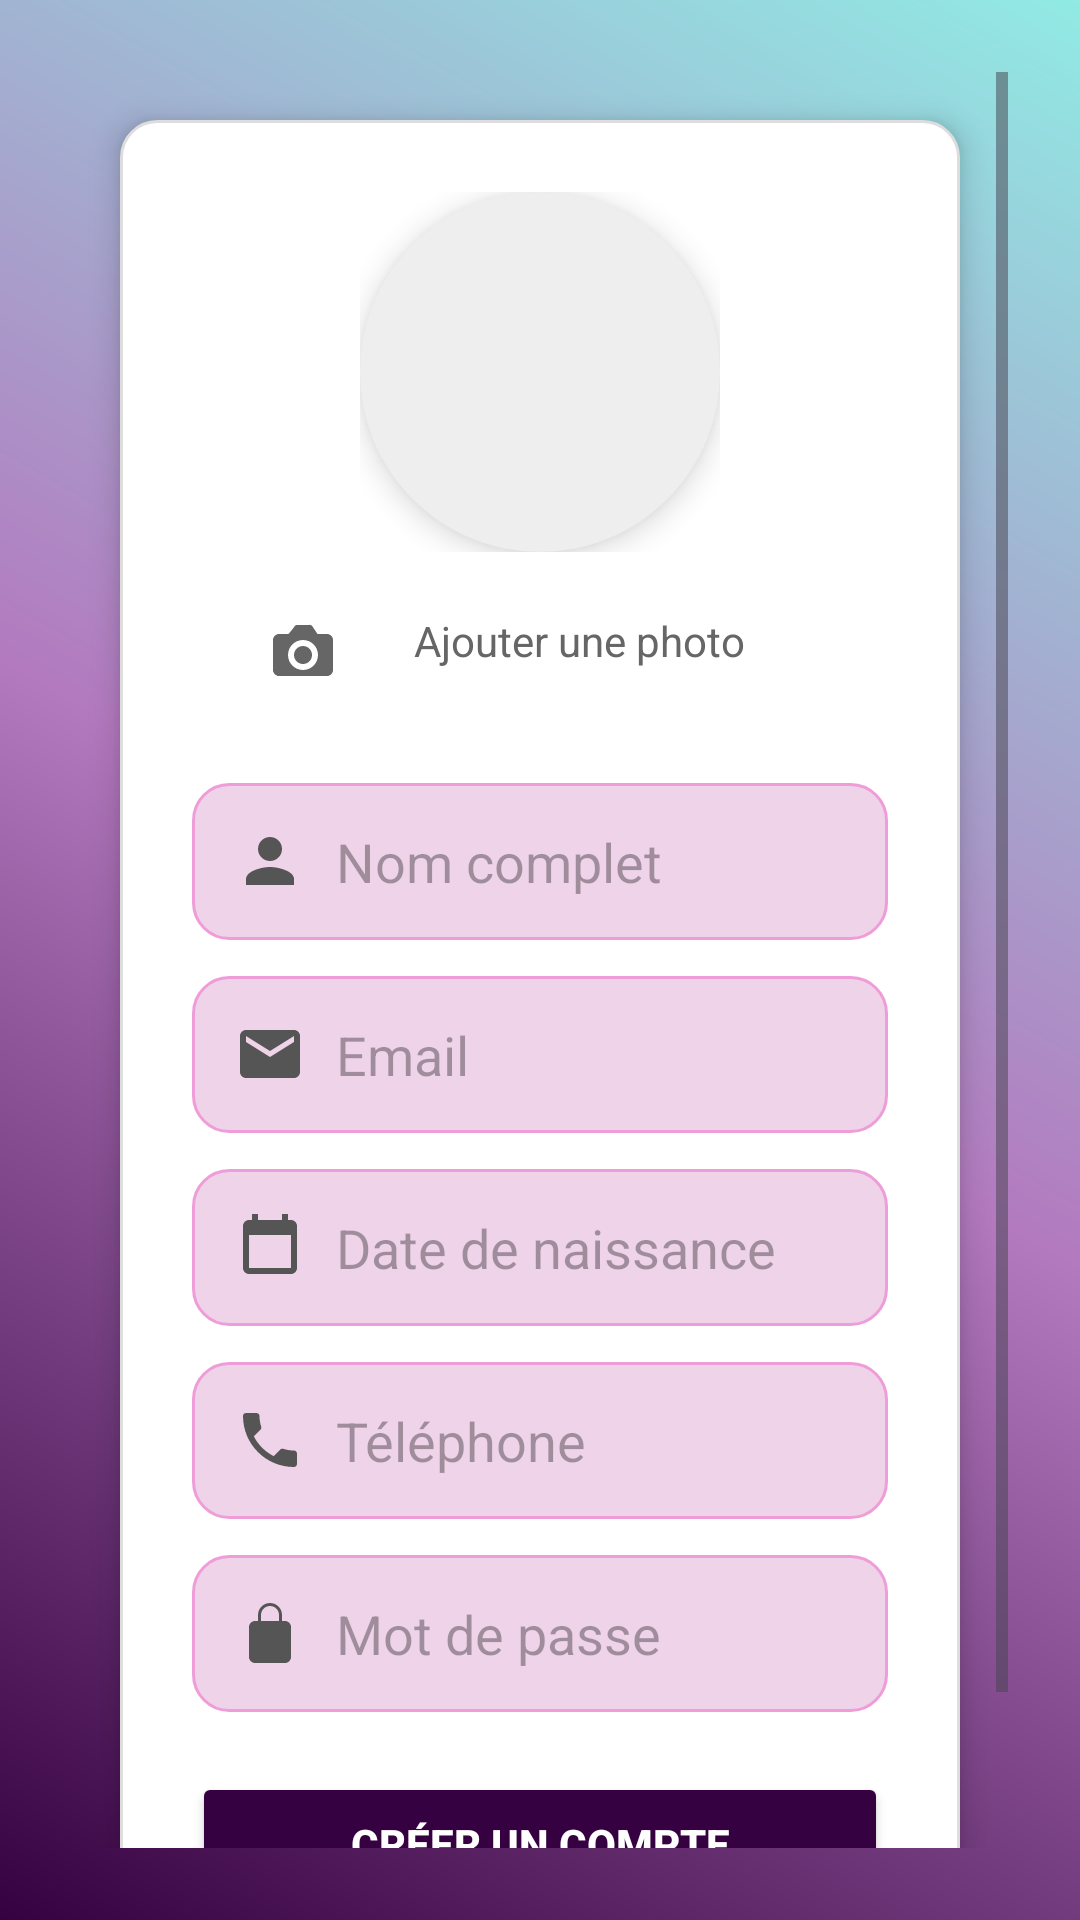

Point at icon controls on the screen. Image size 1080 × 1920, points as (x,y).
add photo: (303,650)
